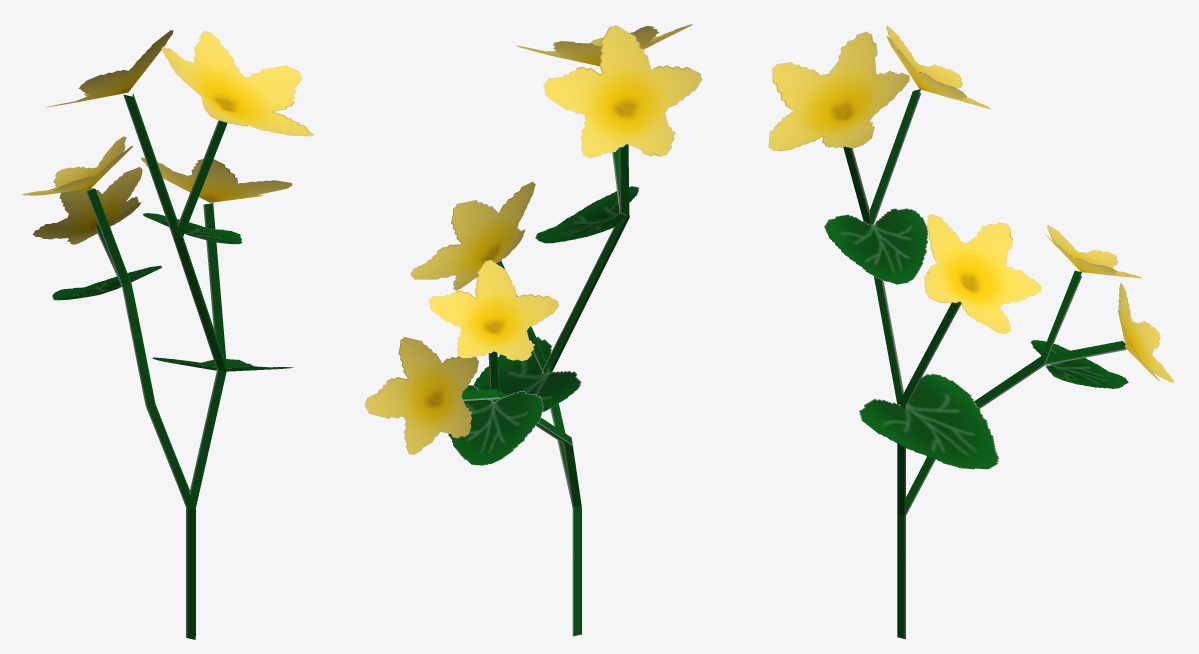
The model's file is yarrow_marsh_marigold.fbx.
3 renders of one model, left to right at view 1: azimuth 30°, elevation 25°; view 2: azimuth 150°, elevation 25°; view 3: azimuth 270°, elevation 25°, orthographic. The views are drawn at different scales.
Parts seen in each view (by area): view 1: yarrow_marsh_marigold; view 2: yarrow_marsh_marigold; view 3: yarrow_marsh_marigold.
Boxes of the visible parts, x1,y1,x2,y2 form: yarrow_marsh_marigold: (22, 30, 313, 639); yarrow_marsh_marigold: (364, 24, 702, 636); yarrow_marsh_marigold: (768, 25, 1173, 639).
Bounding box in the file's own units: 44.66 × 96.44 × 65.08.
1 material, 1 textured.
